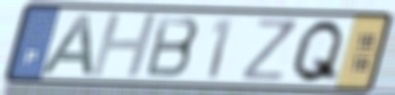1: (208, 16, 236, 82)
A: (36, 12, 97, 78)
B: (142, 14, 203, 80)
H: (87, 12, 162, 81)
Q: (288, 17, 348, 85)
Z: (239, 17, 300, 84)
